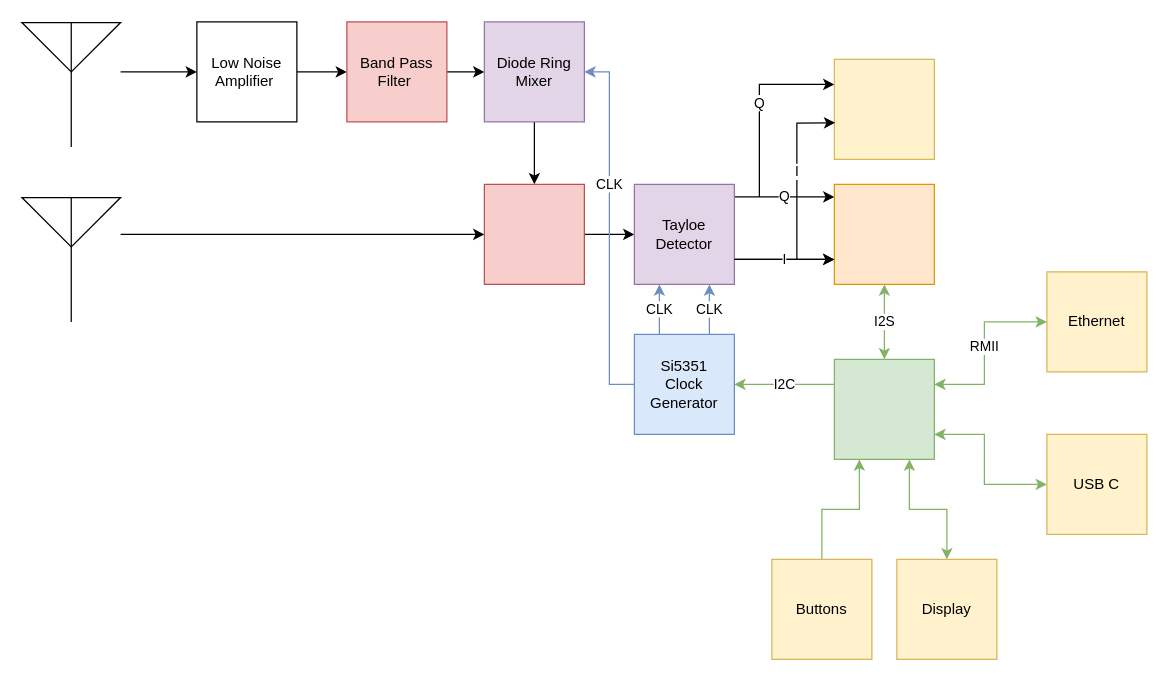
Image size: 1169x681. Some labels were removed from this diagram. Each missing label, with the box of its shape:
ADC: (833, 183, 934, 284)
I and Q Audio output: (833, 58, 934, 159)
Low Pass filter: (483, 183, 584, 284)
RP2350 (pi pico2): (833, 358, 934, 459)
